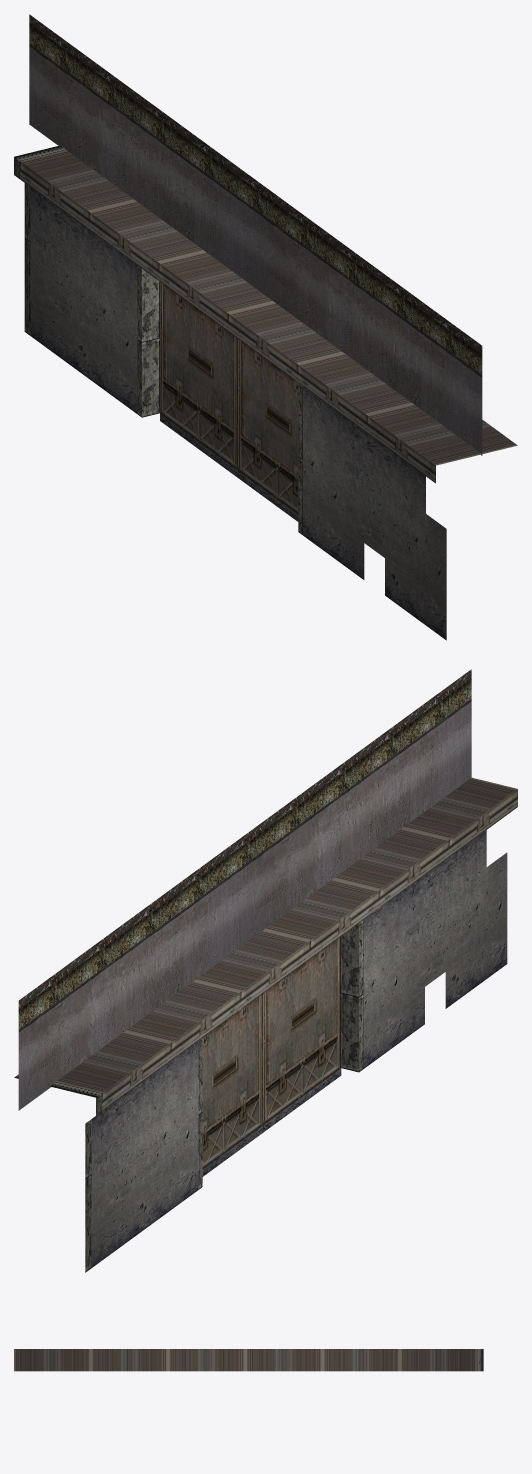
Rendered from M10_Z1_RoadGate01.glb.
3 renders of one model, top to bottom at view 1: azimuth 30°, elevation 25°; view 2: azimuth 150°, elevation 25°; view 3: azimuth 270°, elevation 25°, orthographic. The views are drawn at different scales.
Parts seen in each view (by area): view 1: M10_Z1_ROADGATE01; view 2: M10_Z1_ROADGATE01; view 3: M10_Z1_ROADGATE01.
Part boxes in pixels (x1=…): M10_Z1_ROADGATE01: x1=14, y1=14, x2=517, y2=640; M10_Z1_ROADGATE01: x1=14, y1=669, x2=517, y2=1272; M10_Z1_ROADGATE01: x1=14, y1=1349, x2=483, y2=1371.
Bounding box in the file's own units: 2.3 × 7.87 × 22.
Materials: 5 (5 with a texture image).
